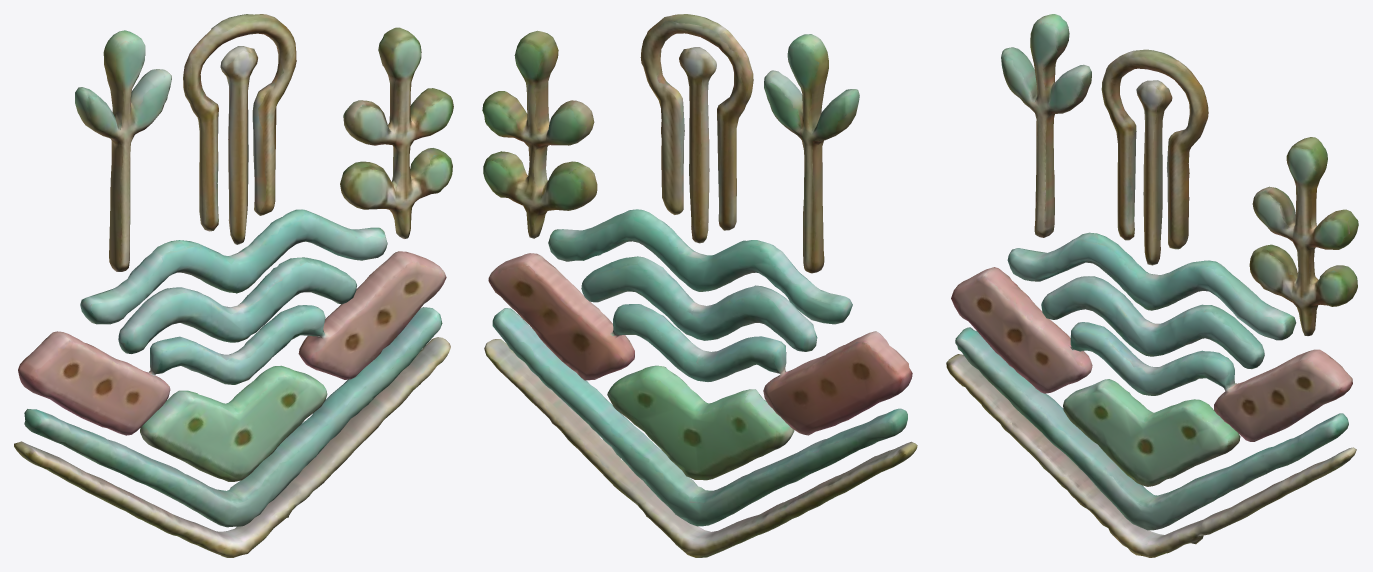
Rendered from first-sequence.glb.
3 views of the same model, side by side, from view 1: azimuth 30°, elevation 25°; view 2: azimuth 150°, elevation 25°; view 3: azimuth 330°, elevation 25° (orthographic). The views are drawn at different scales.
Visible parts, largest first — view 1: mesh; view 2: mesh; view 3: mesh.
Boxes of the visible parts, x1,y1,x2,y2 form: mesh: [14, 14, 453, 557]; mesh: [482, 14, 917, 557]; mesh: [946, 14, 1358, 557].
Size of the model in its own units: 1.52 by 1.84 by 0.1166.
1 material, 1 textured.
